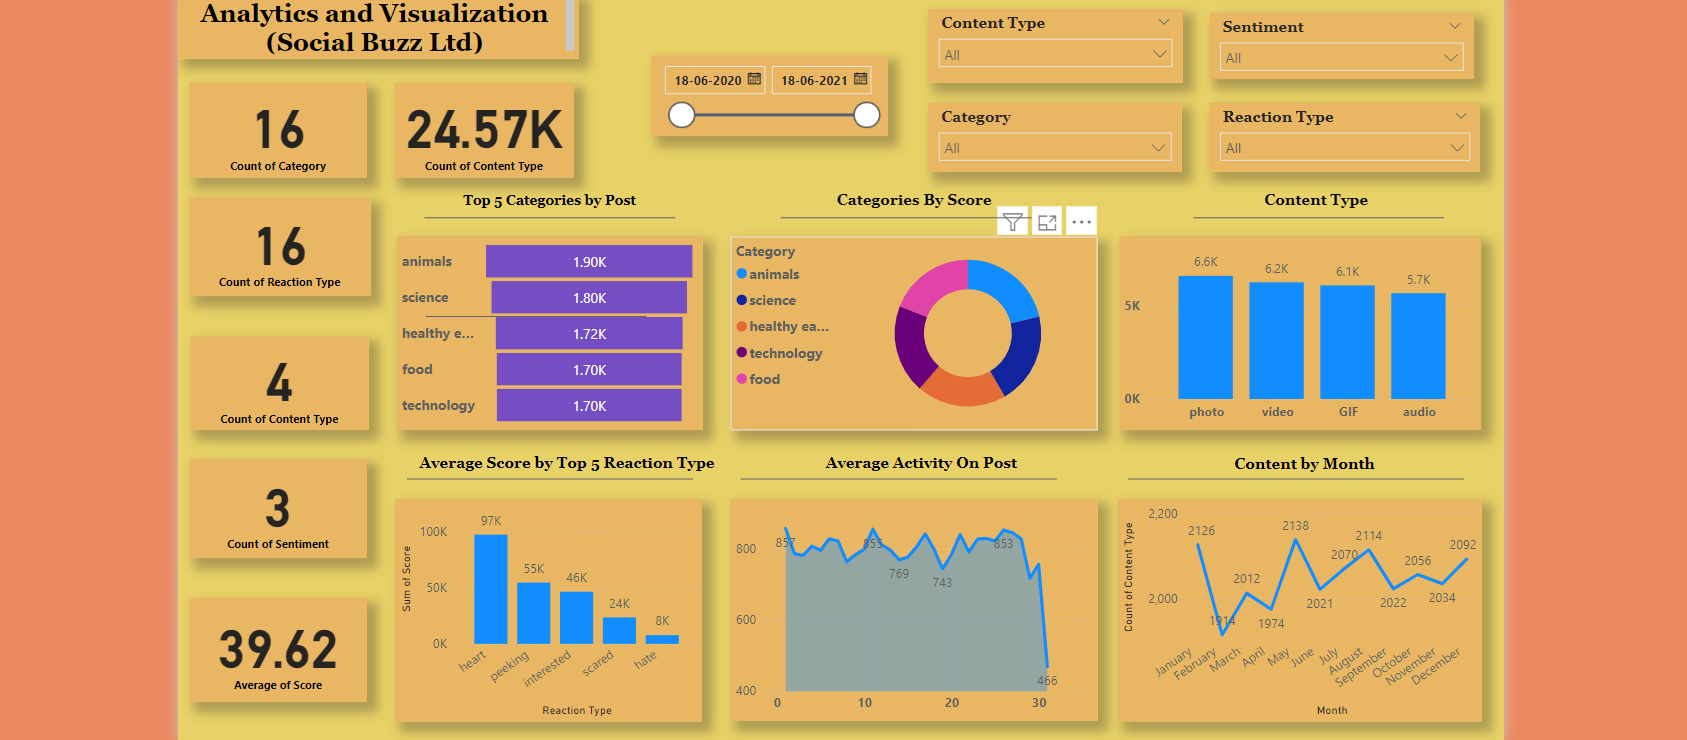

What the dashboard file says about the page in this screenshot:
{"tool":"powerbi","page":{"name":"Page 1","canvas":[1280,720],"ordinal":0},"visuals":[{"type":"card","fields":{"Values":["Count(Task 3_Final Content Data set (2).Category)"]},"box":[10.4,85.9,171.9,91.9],"z":0},{"type":"card","fields":{"Values":["Count(Task 3_Final Content Data set (2).Reaction Type)"]},"box":[10.4,197,174.8,94.8],"z":1000},{"type":"card","fields":{"Values":["Count(Task 3_Final Content Data set (2).Content Type)"]},"box":[11.9,330.4,171.9,90.4],"z":2000},{"type":"card","fields":{"Values":["CountNonNull(Task 3_Final Content Data set (2).Content Type)"]},"box":[208.9,85.9,173.3,91.9],"z":3000},{"type":"card","fields":{"Values":["Count(Task 3_Final Content Data set (2).Sentiment)"]},"box":[10.4,448.9,171.9,96.3],"z":4000},{"type":"card","fields":{"Values":["Avg(Task 3_Final Content Data set (2).Score)"]},"box":[10.4,582.2,171.9,100.7],"z":5000},{"type":"slicer","fields":{"Values":["Task 3_Final Content Data set (2).Date"]},"box":[457.8,59.3,228.1,78.5],"z":6000},{"type":"slicer","fields":{"Values":["Task 3_Final Content Data set (2).Content Type"]},"box":[723.9,14.5,246.1,71.2],"z":7000},{"type":"slicer","fields":{"Values":["Task 3_Final Content Data set (2).Reaction Type"]},"box":[995.3,105,261.8,66.4],"z":8000},{"type":"slicer","fields":{"Values":["Task 3_Final Content Data set (2).Sentiment"]},"box":[995.3,18.1,255.8,63.9],"z":9000},{"type":"slicer","fields":{"Values":["Task 3_Final Content Data set (2).Category"]},"box":[723.9,105,244.9,67.6],"z":10000},{"type":"lineChart","fields":{"Category":["Task 3_Final Content Data set (2).Date.Variation.Date Hierarchy.Month"],"Y":["CountNonNull(Task 3_Final Content Data set (2).Content Type)"]},"box":[906.7,487.4,351.1,214.8],"z":11000},{"type":"funnel","fields":{"Category":["Task 3_Final Content Data set (2).Category"],"Y":["CountNonNull(Task 3_Final Content Data set (2).Content ID)"]},"box":[211.1,234,295.6,187],"z":12000},{"type":"clusteredColumnChart","fields":{"Category":["Task 3_Final Content Data set (2).Content Type"],"Y":["CountNonNull(Task 3_Final Content Data set (2).Content Type)"]},"box":[908.4,234,349.9,187],"z":13000},{"type":"donutChart","fields":{"Category":["Task 3_Final Content Data set (2).Category"],"Y":["Sum(Task 3_Final Content Data set (2).Score)"]},"box":[533.2,234,354.7,187],"z":14000},{"type":"textbox","box":[0,0,387.3,62.7],"z":15000},{"type":"basicShape","box":[533.2,448.8,324.5,38.6],"z":16000},{"type":"basicShape","box":[907.2,448.8,343.8,38.6],"z":17000},{"type":"basicShape","box":[229.2,292,232.8,38.6],"z":18000},{"type":"areaChart","fields":{"Y":["Task 3_Final Content Data set (2).Activity Rows"],"Category":["Task 3_Final Content Data set (2).Date.Variation.Date Hierarchy.Day"]},"box":[533.2,487.4,354.7,214.7],"z":19000},{"type":"textbox","box":[620.1,437.9,207.5,39.8],"z":20000},{"type":"clusteredColumnChart","fields":{"Category":["Task 3_Final Content Data set (2).Reaction Type"],"Y":["Sum(Task 3_Final Content Data set (2).Score)"]},"box":[210.4,487.4,296.3,214.8],"z":21000},{"type":"basicShape","box":[211.1,448.8,295.6,38.6],"z":22000},{"type":"basicShape","box":[228,196.6,261.8,38.6],"z":23000},{"type":"basicShape","box":[571.9,196.6,261.8,38.6],"z":24000},{"type":"basicShape","box":[970,196.6,261.8,38.6],"z":25000},{"type":"textbox","box":[228,437.9,304,39.8],"z":25001},{"type":"textbox","box":[270.2,184.6,236.5,39.8],"z":25002},{"type":"textbox","box":[1043.6,184.6,236.5,39.8],"z":25003},{"type":"textbox","box":[1014.6,439.1,236.5,39.8],"z":25004},{"type":"textbox","box":[631,184.6,236.5,39.8],"z":25005}]}

Visuals, with their boxes on the page's 1280x720 design canvas (x1, y1, x2, y2). These are canvas units, not pixel positions in the 1687x740 screenshot, which may show the page scaled, cropped or inside an application window:
card - Count(Task 3_Final Content Data set (2).Category): (left=10, top=86, right=182, bottom=178)
card - Count(Task 3_Final Content Data set (2).Reaction Type): (left=10, top=197, right=185, bottom=292)
card - Count(Task 3_Final Content Data set (2).Content Type): (left=12, top=330, right=184, bottom=421)
card - CountNonNull(Task 3_Final Content Data set (2).Content Type): (left=209, top=86, right=382, bottom=178)
card - Count(Task 3_Final Content Data set (2).Sentiment): (left=10, top=449, right=182, bottom=545)
card - Avg(Task 3_Final Content Data set (2).Score): (left=10, top=582, right=182, bottom=683)
slicer - Task 3_Final Content Data set (2).Date: (left=458, top=59, right=686, bottom=138)
slicer - Task 3_Final Content Data set (2).Content Type: (left=724, top=14, right=970, bottom=86)
slicer - Task 3_Final Content Data set (2).Reaction Type: (left=995, top=105, right=1257, bottom=171)
slicer - Task 3_Final Content Data set (2).Sentiment: (left=995, top=18, right=1251, bottom=82)
slicer - Task 3_Final Content Data set (2).Category: (left=724, top=105, right=969, bottom=173)
lineChart - Task 3_Final Content Data set (2).Date.Variation.Date Hierarchy.Month x CountNonNull(Task 3_Final Content Data set (2).Content Type): (left=907, top=487, right=1258, bottom=702)
funnel - Task 3_Final Content Data set (2).Category x CountNonNull(Task 3_Final Content Data set (2).Content ID): (left=211, top=234, right=507, bottom=421)
clusteredColumnChart - Task 3_Final Content Data set (2).Content Type x CountNonNull(Task 3_Final Content Data set (2).Content Type): (left=908, top=234, right=1258, bottom=421)
donutChart - Task 3_Final Content Data set (2).Category x Sum(Task 3_Final Content Data set (2).Score): (left=533, top=234, right=888, bottom=421)
textbox: (left=0, top=0, right=387, bottom=63)
basicShape: (left=533, top=449, right=858, bottom=487)
basicShape: (left=907, top=449, right=1251, bottom=487)
basicShape: (left=229, top=292, right=462, bottom=331)
areaChart - Task 3_Final Content Data set (2).Activity Rows x Task 3_Final Content Data set (2).Date.Variation.Date Hierarchy.Day: (left=533, top=487, right=888, bottom=702)
textbox: (left=620, top=438, right=828, bottom=478)
clusteredColumnChart - Task 3_Final Content Data set (2).Reaction Type x Sum(Task 3_Final Content Data set (2).Score): (left=210, top=487, right=507, bottom=702)
basicShape: (left=211, top=449, right=507, bottom=487)
basicShape: (left=228, top=197, right=490, bottom=235)
basicShape: (left=572, top=197, right=834, bottom=235)
basicShape: (left=970, top=197, right=1232, bottom=235)
textbox: (left=228, top=438, right=532, bottom=478)
textbox: (left=270, top=185, right=507, bottom=224)
textbox: (left=1044, top=185, right=1280, bottom=224)
textbox: (left=1015, top=439, right=1251, bottom=479)
textbox: (left=631, top=185, right=868, bottom=224)
